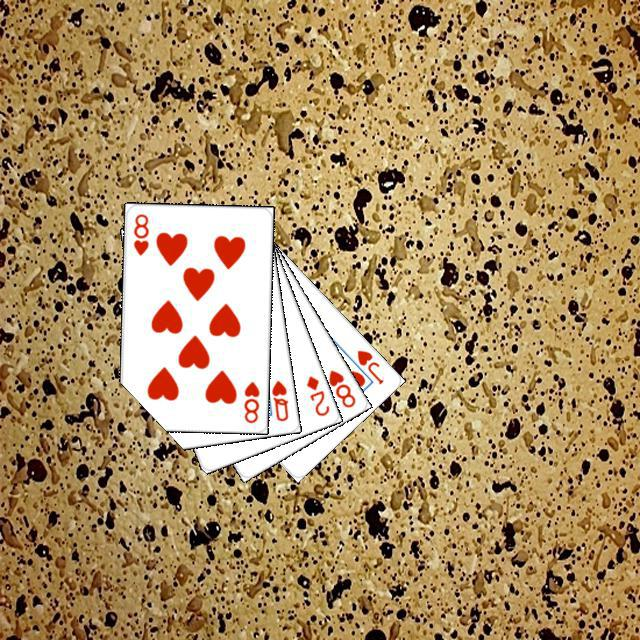2d: (301, 370, 331, 418)
8h: (323, 365, 357, 409), (239, 377, 261, 425), (128, 209, 150, 257)
Jh: (352, 345, 385, 386)
Qh: (267, 375, 290, 423)
